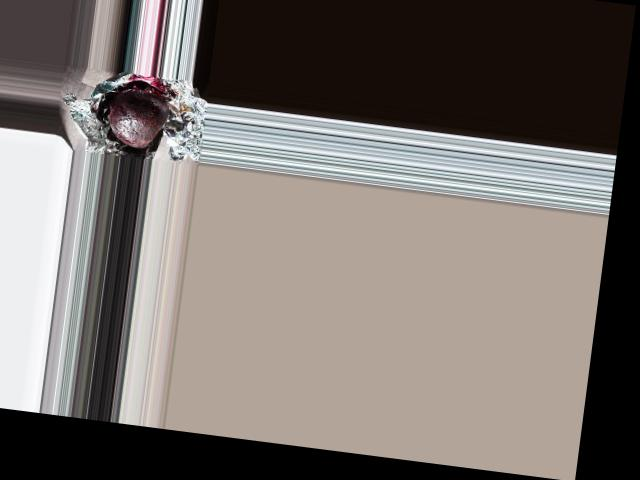beet: (104, 88, 171, 151)
